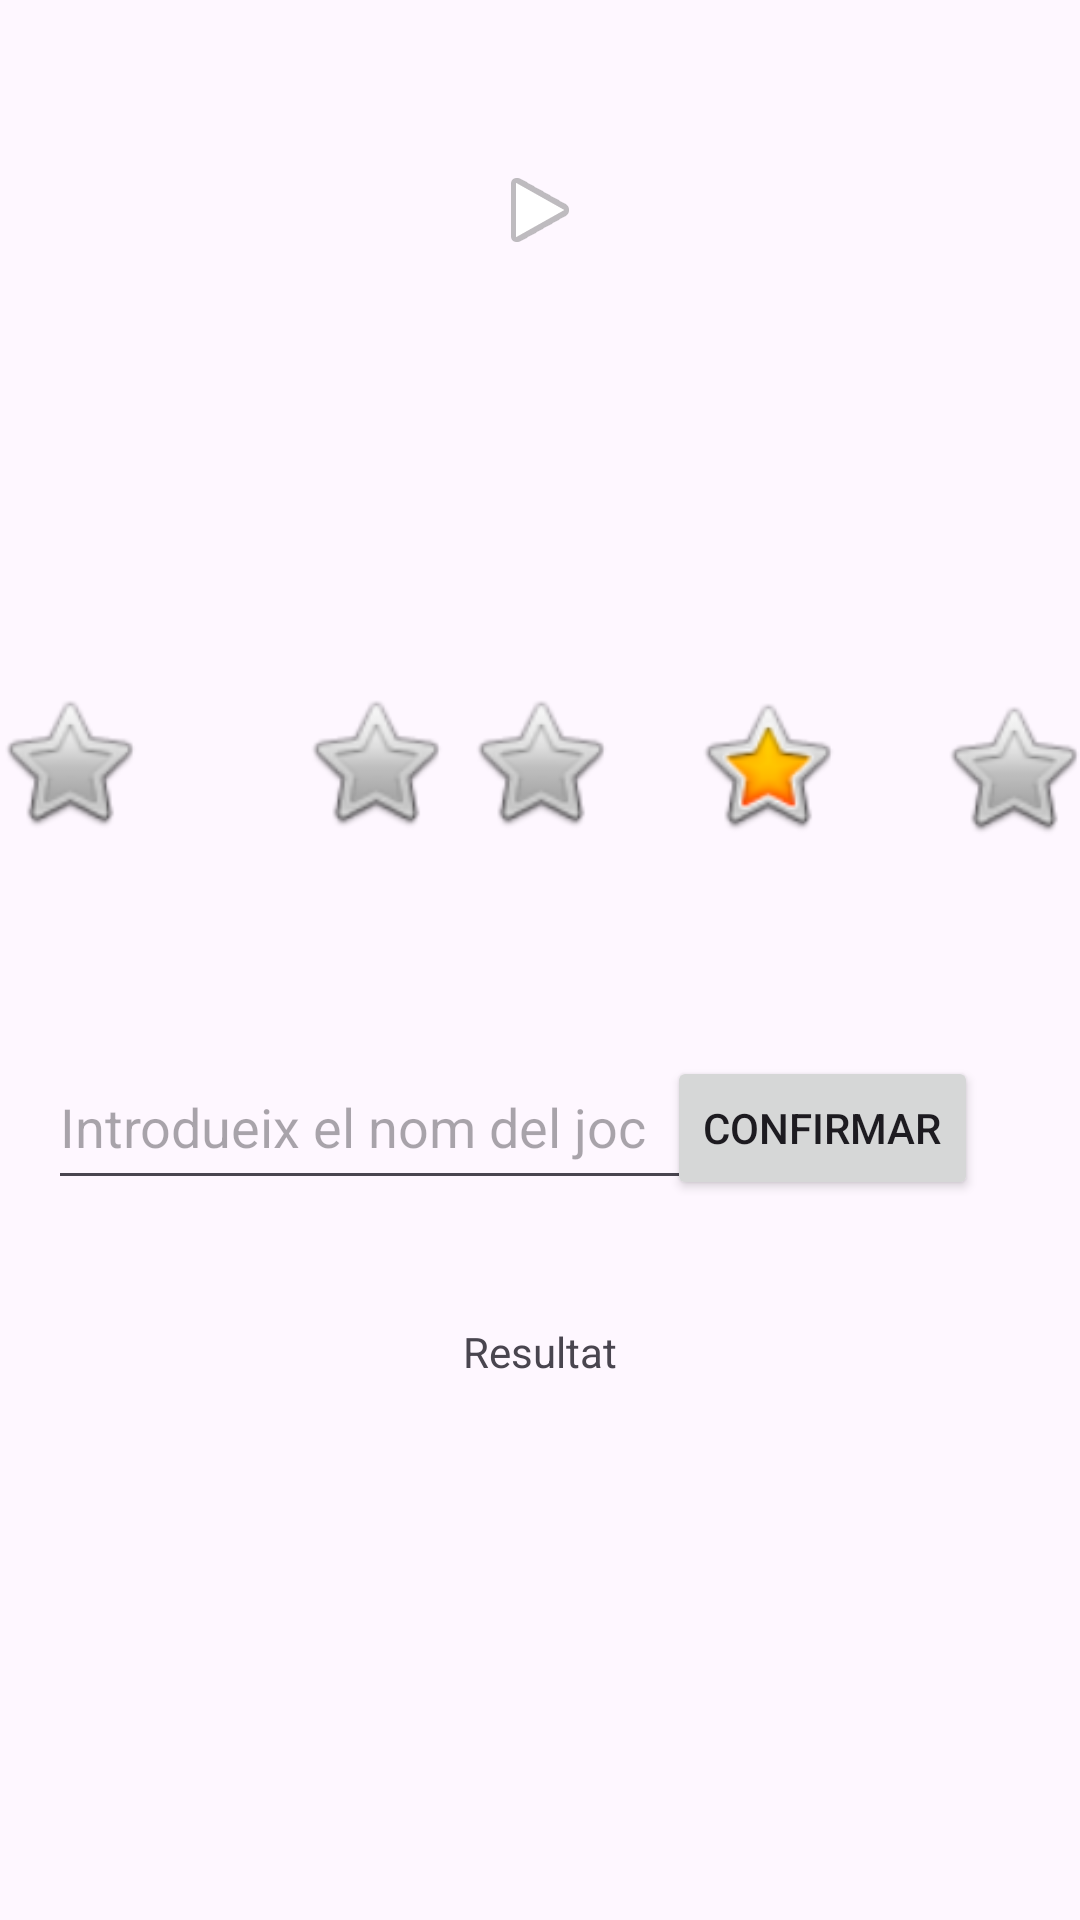

Locate icon controls on the screen. Image size 1080x1920, boxes as (x1, y1, x2, y2).
play: (511, 178, 569, 242)
star off: (8, 702, 133, 824), (314, 702, 439, 824), (479, 702, 604, 824), (952, 708, 1077, 830)
star on: (706, 705, 831, 827)
